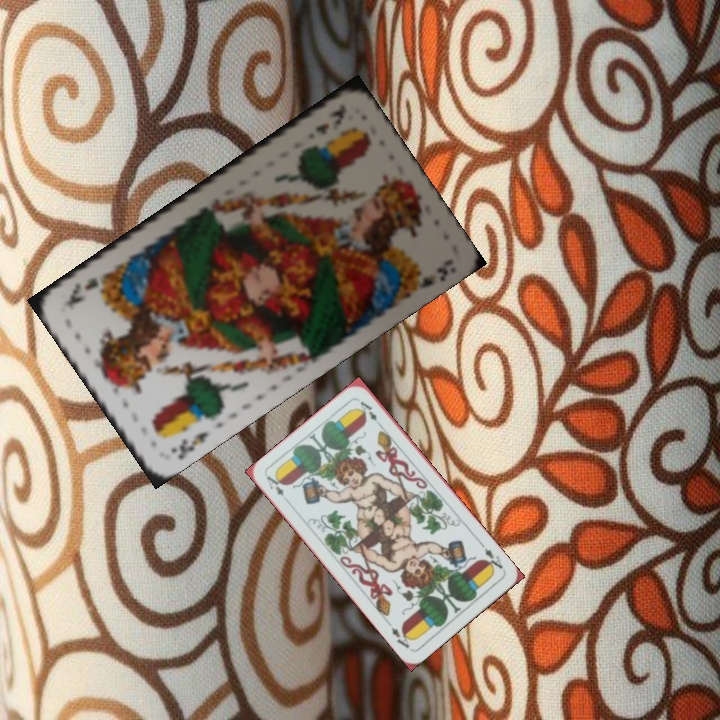EA: (262, 471, 293, 506), (476, 539, 505, 575)
EK: (166, 427, 211, 462), (310, 99, 349, 138)
